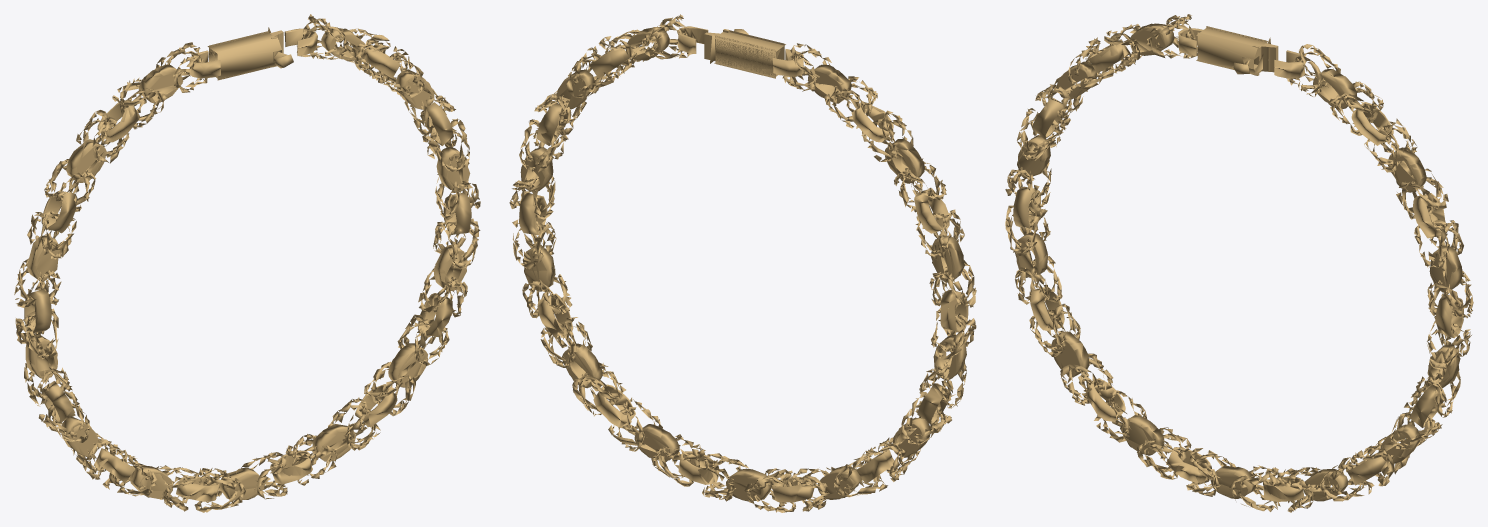
File: vongtay3.glb
3 renders of one model, left to right at view 1: azimuth 30°, elevation 25°; view 2: azimuth 150°, elevation 25°; view 3: azimuth 330°, elevation 25°, orthographic.
Parts seen in each view (by area): view 1: mesh_255, mesh_205, mesh_210, mesh_206, mesh_229, mesh_204, mesh_200, mesh_209, mesh_203, mesh_201, mesh_99, mesh_208 (+14 smaller); view 2: mesh_254, mesh_205, mesh_229, mesh_206, mesh_204, mesh_210, mesh_209, mesh_200, mesh_201, mesh_203, mesh_208, mesh_90 (+16 smaller); view 3: mesh_255, mesh_202, mesh_207, mesh_203, mesh_208, mesh_209, mesh_201, mesh_204, mesh_205, mesh_200, mesh_100, mesh_102 (+12 smaller).
Part boxes in pixels (x1,y1,x2,y2): mesh_255: (217,38,281,80); mesh_205: (41,191,77,233); mesh_210: (418,293,452,336); mesh_206: (97,100,139,142); mesh_229: (355,384,397,427); mesh_204: (24,289,51,333); mesh_200: (271,450,312,484); mesh_209: (443,193,471,234); mesh_203: (41,381,74,423); mesh_201: (176,476,219,501); mesh_99: (388,346,428,387); mesh_208: (420,102,453,145); mesh_254: (715,35,775,78); mesh_205: (914,188,949,233); mesh_229: (593,384,635,427); mesh_206: (851,101,893,142); mesh_204: (940,289,968,332); mesh_210: (537,293,573,336); mesh_209: (519,193,547,235); mesh_200: (678,451,719,484); mesh_201: (772,477,814,502); mesh_203: (917,383,951,424); mesh_208: (536,103,567,145); mesh_90: (896,418,930,457); mesh_255: (1197,32,1257,75); mesh_202: (1086,378,1125,421); mesh_207: (1351,102,1393,145); mesh_203: (1030,287,1064,330); mesh_208: (1413,193,1445,238); mesh_209: (1435,294,1463,338); mesh_201: (1167,447,1210,482); mesh_204: (1013,186,1040,229); mesh_205: (1032,98,1067,138); mesh_200: (1263,476,1303,501); mesh_100: (1212,467,1255,498); mesh_102: (1052,339,1089,377).
Size of the model in its own units: 36.36 by 35.4 by 4.16.
